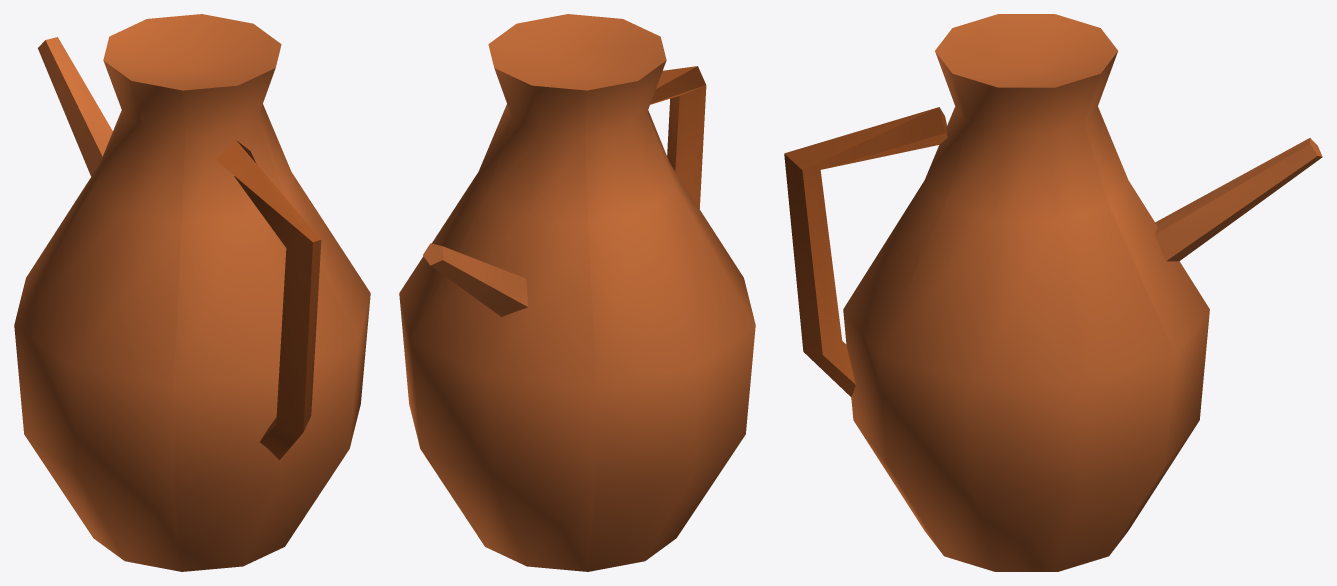
The model's file is env_baku_jug.glb.
The picture shows the model from 3 angles, left to right: view 1: azimuth 30°, elevation 25°; view 2: azimuth 150°, elevation 25°; view 3: azimuth 270°, elevation 25°; orthographic projection.
Parts seen in each view (by area): view 1: env_baku_jug; view 2: env_baku_jug; view 3: env_baku_jug.
Boxes of the visible parts, <box> form: env_baku_jug: <box>14,14,370,571</box>; env_baku_jug: <box>399,14,755,571</box>; env_baku_jug: <box>784,14,1322,571</box>.
Size of the model in its own units: 0.3424 by 0.52 by 0.5286.
Materials: 1 (1 with a texture image).
